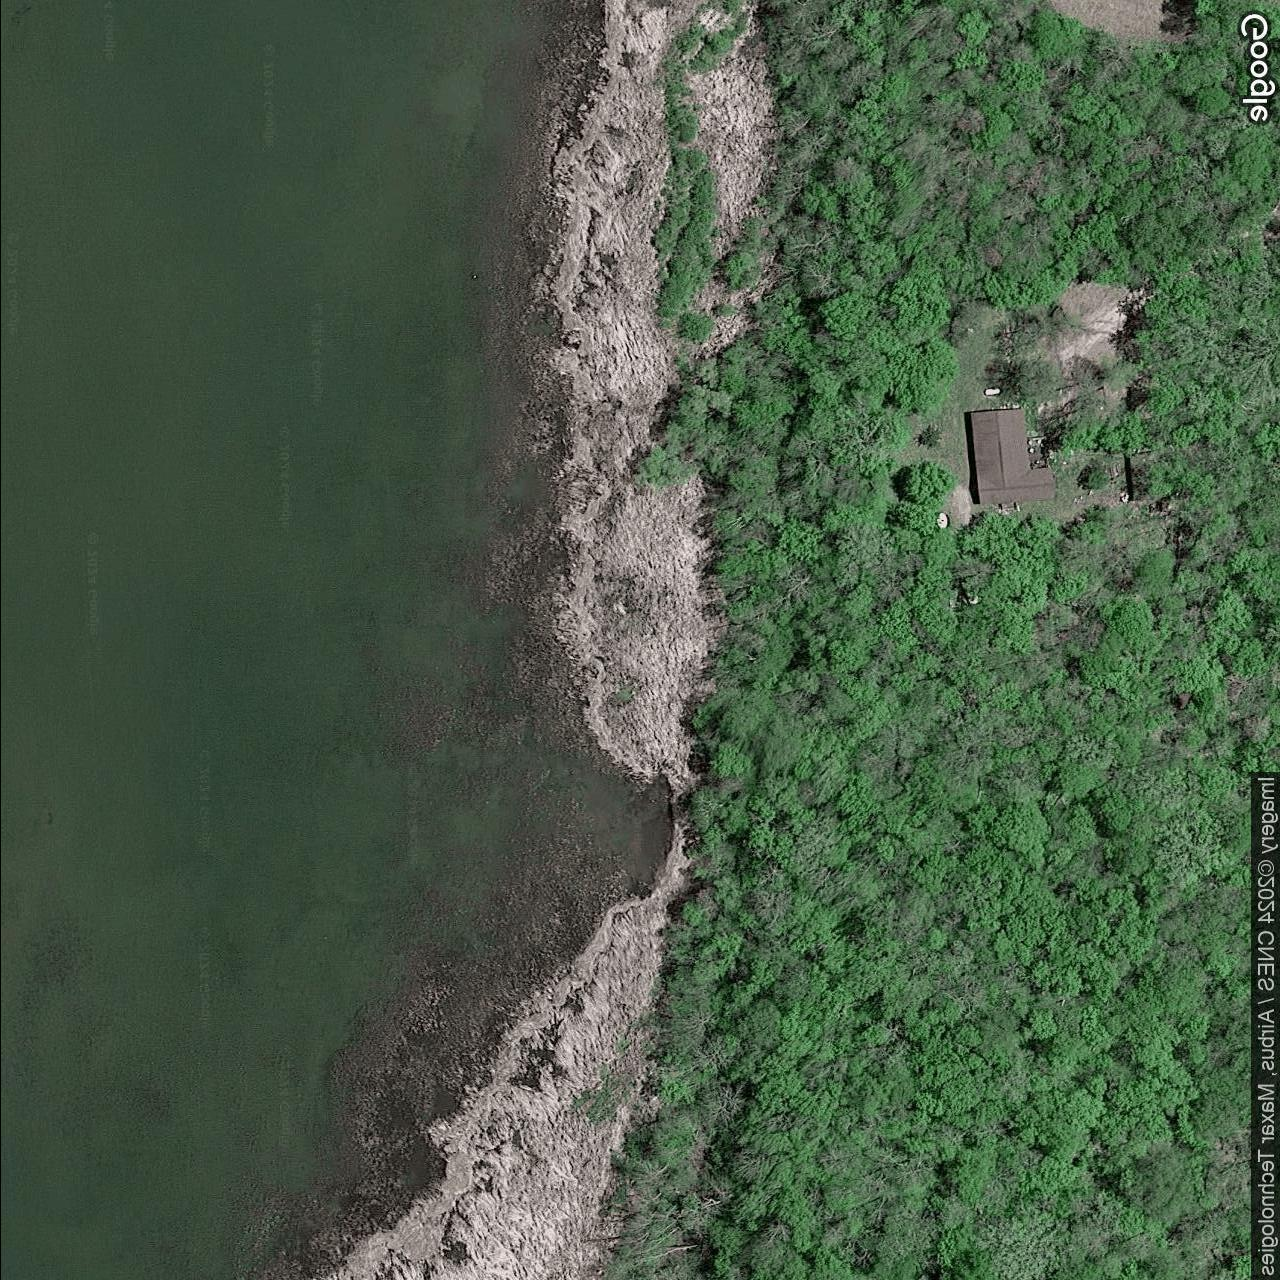House: (968, 408, 1057, 504)
Propane: (981, 386, 1003, 399)
